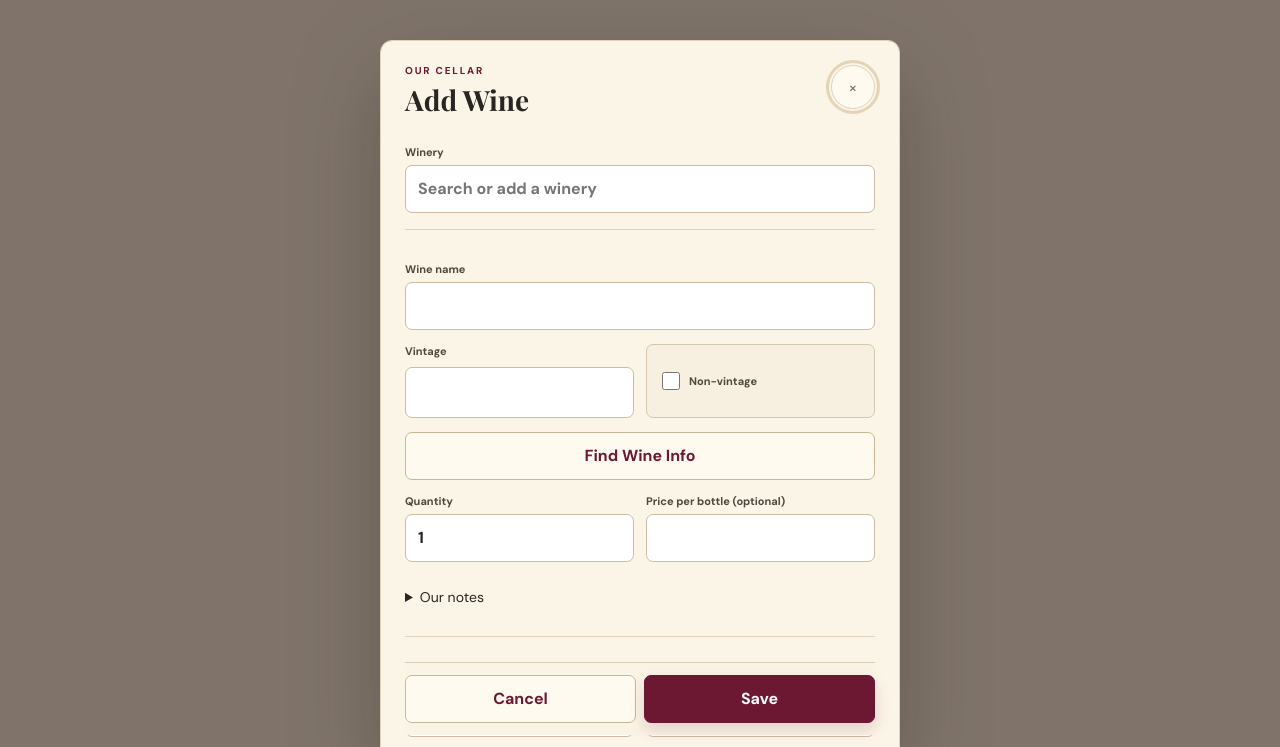
Scenario: waits for selected winery, name and complete vintage, then debounces typing
The width and height of the screenshot is (1280, 747).
In the search field labelled "Winery": (640, 189) left=405, top=165, right=875, bottom=213, type "Forge"
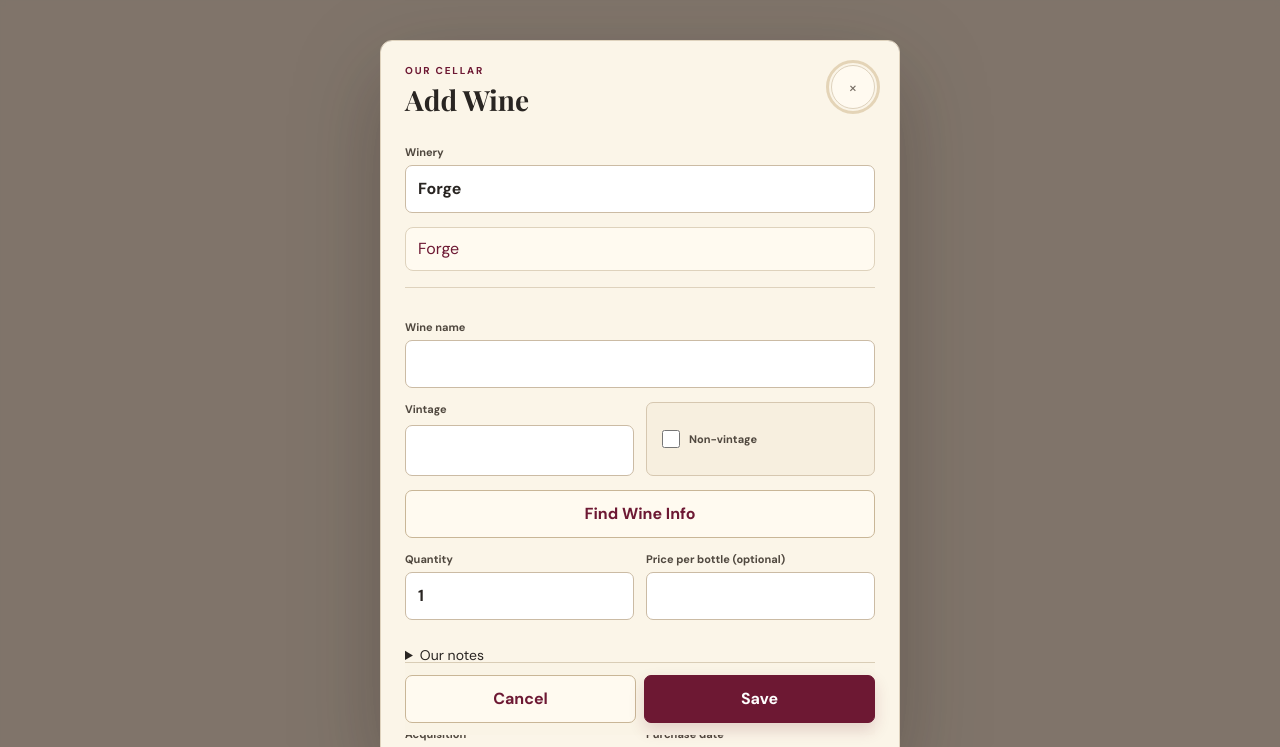
In the field labelled "Wine name": (640, 364) left=405, top=340, right=875, bottom=388, type "Riesling"
In the number field labelled "Vintage": (520, 450) left=405, top=425, right=634, bottom=476, type "2023"
Wait 1000 ms
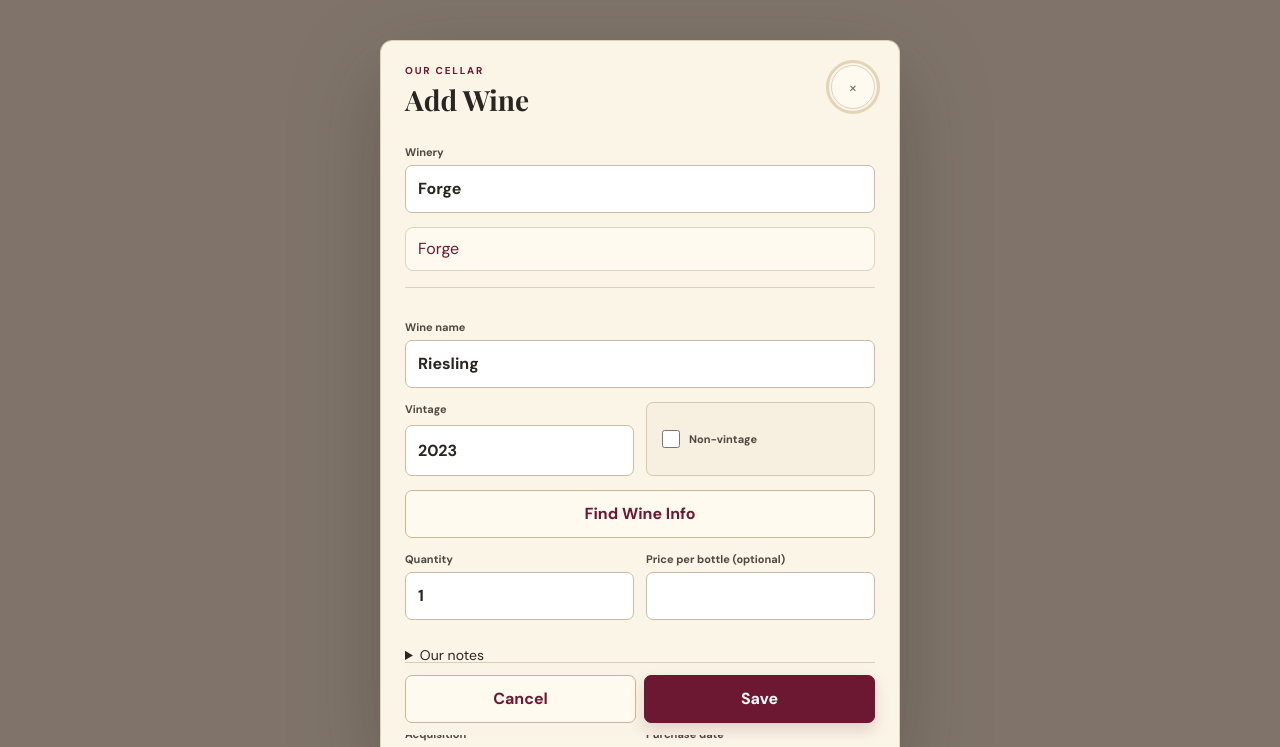
Click the button "Forge": (439, 249) left=405, top=227, right=875, bottom=271
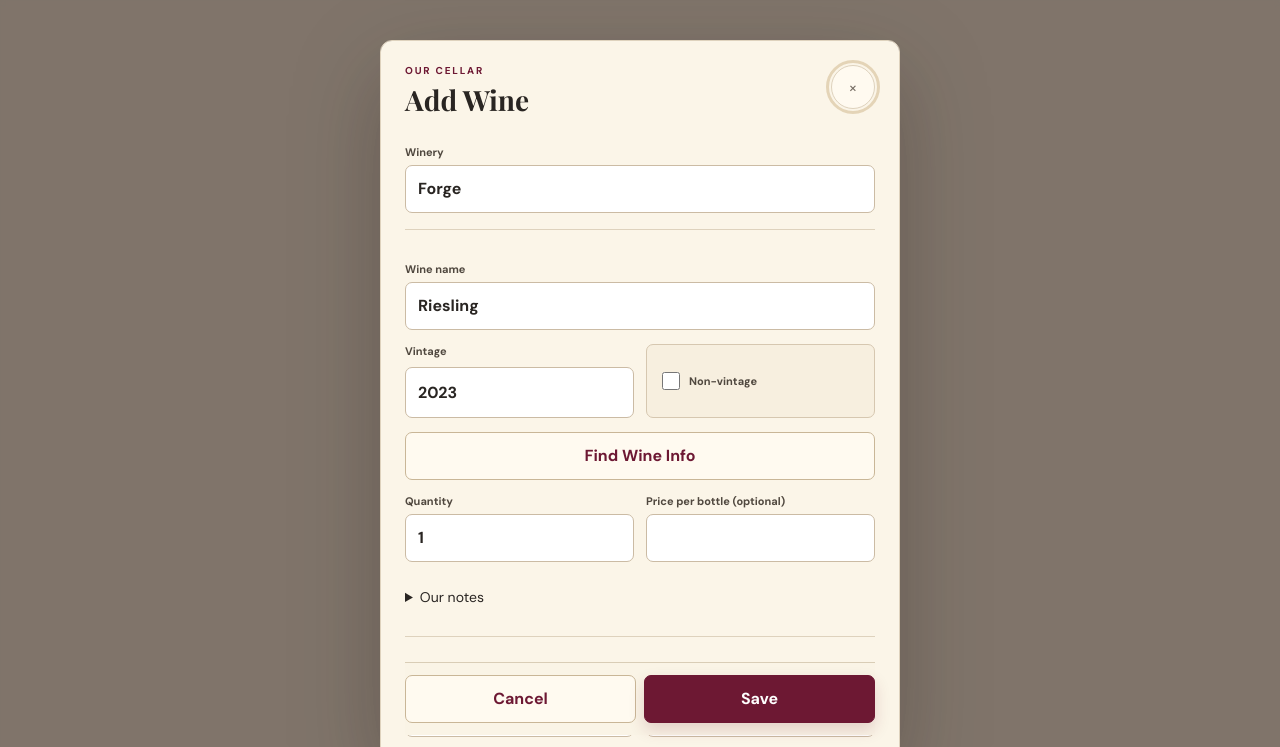
Replace the text in the number field labelled "Vintage" with "202": (520, 392) left=405, top=367, right=634, bottom=418
Wait 1000 ms
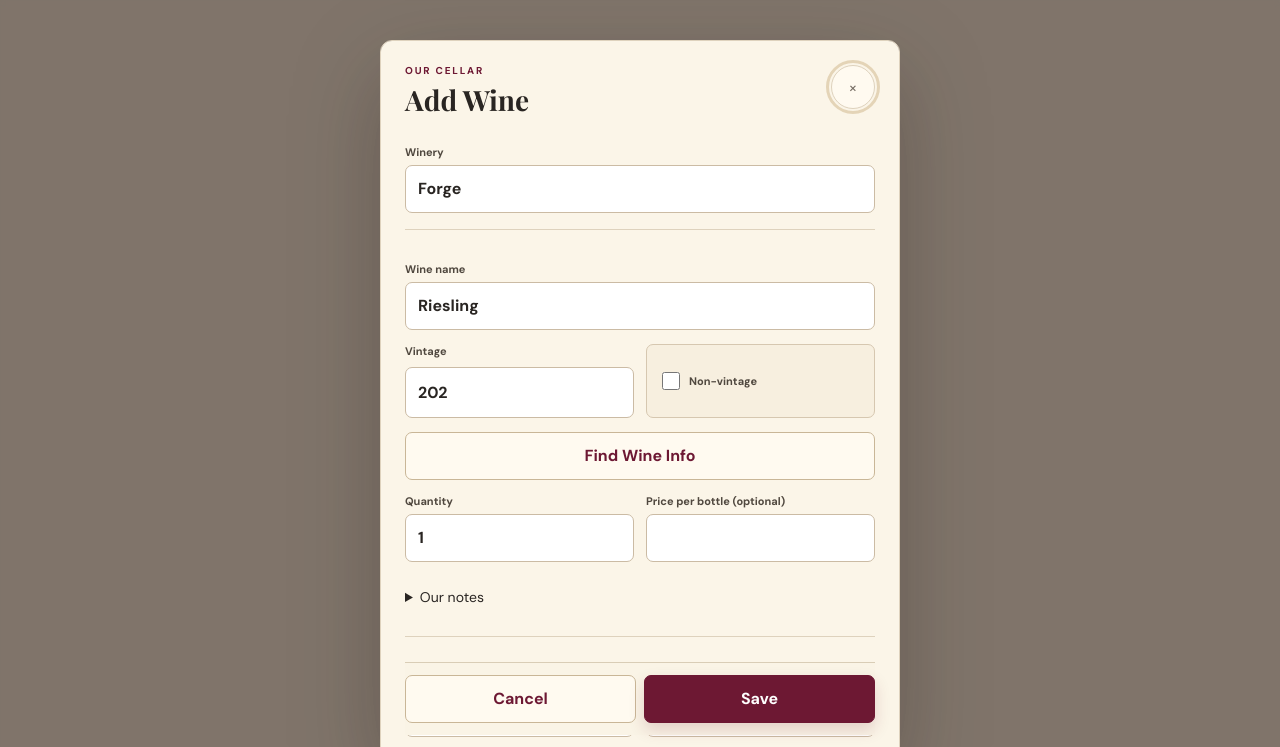
Replace the text in the number field labelled "Vintage" with "2023": (520, 392) left=405, top=367, right=634, bottom=418
Wait 700 ms
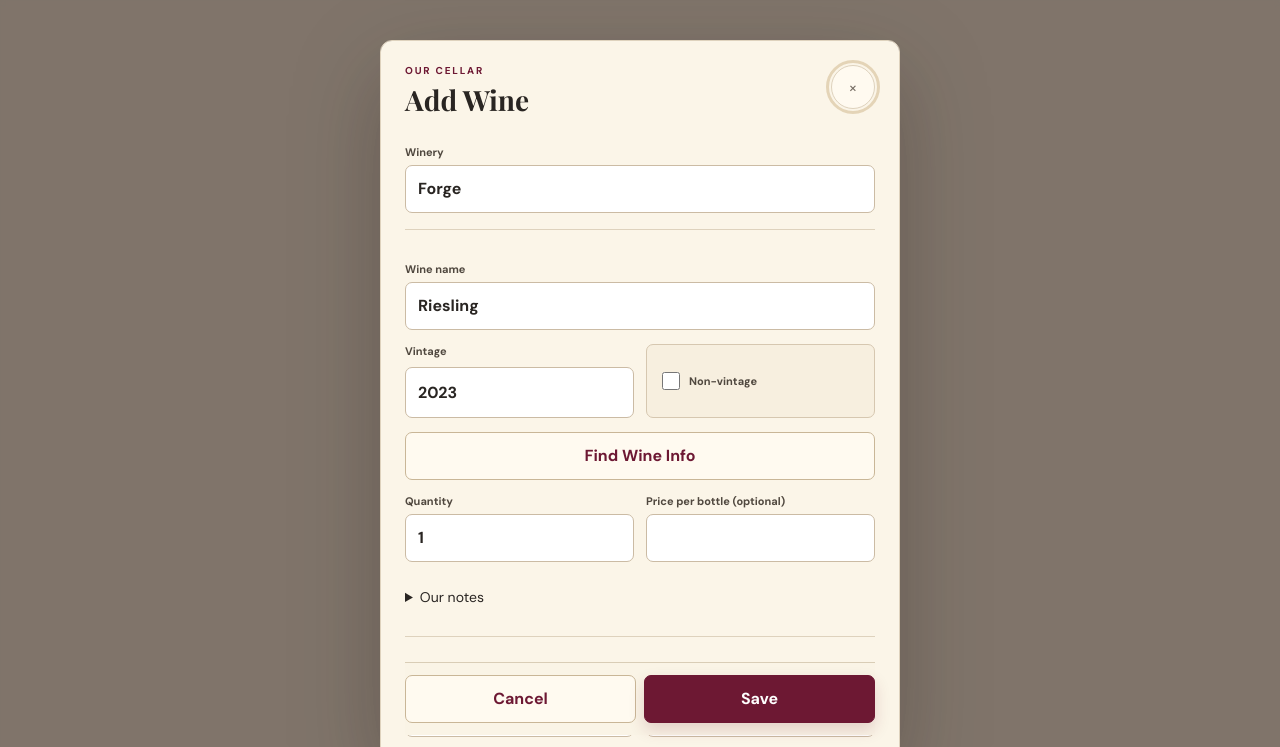
Replace the text in the field labelled "Wine name" with "Riesling Dry": (640, 306) left=405, top=282, right=875, bottom=330
Wait 1000 ms
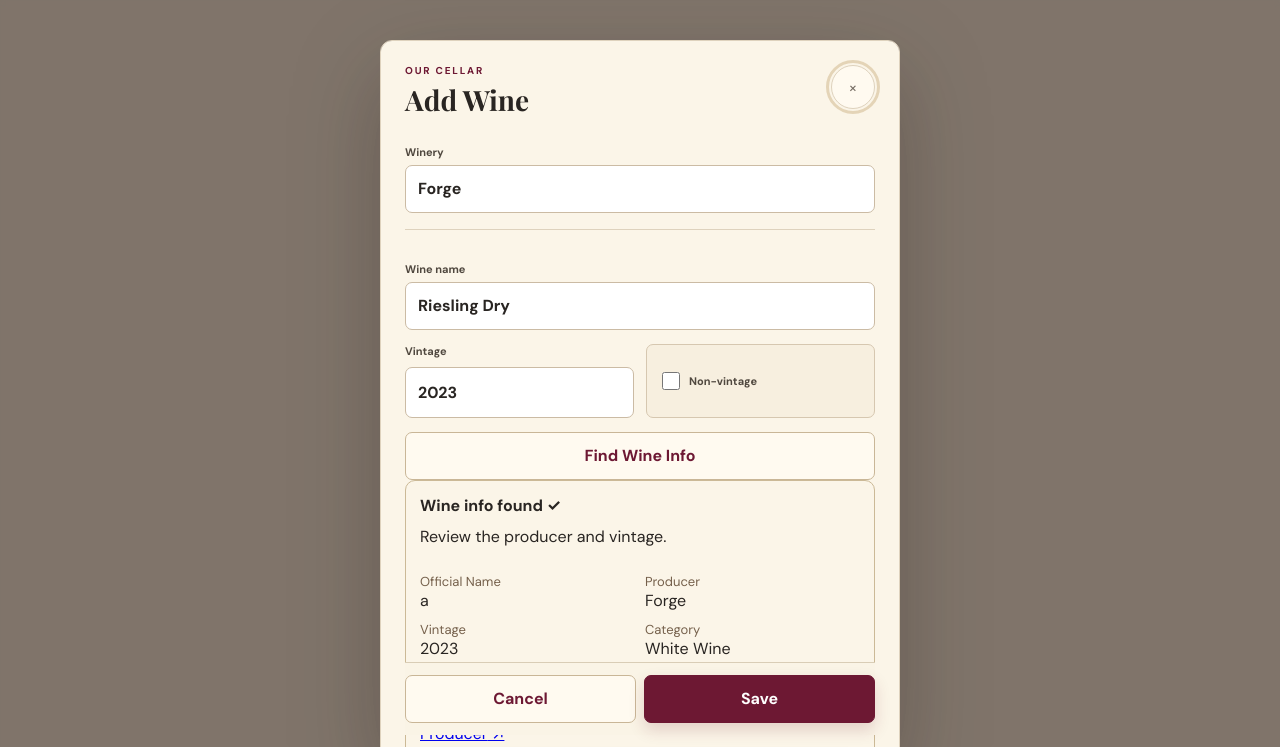
Result: the text "Wine info found ✓" is shown at left=420, top=495, right=561, bottom=516
